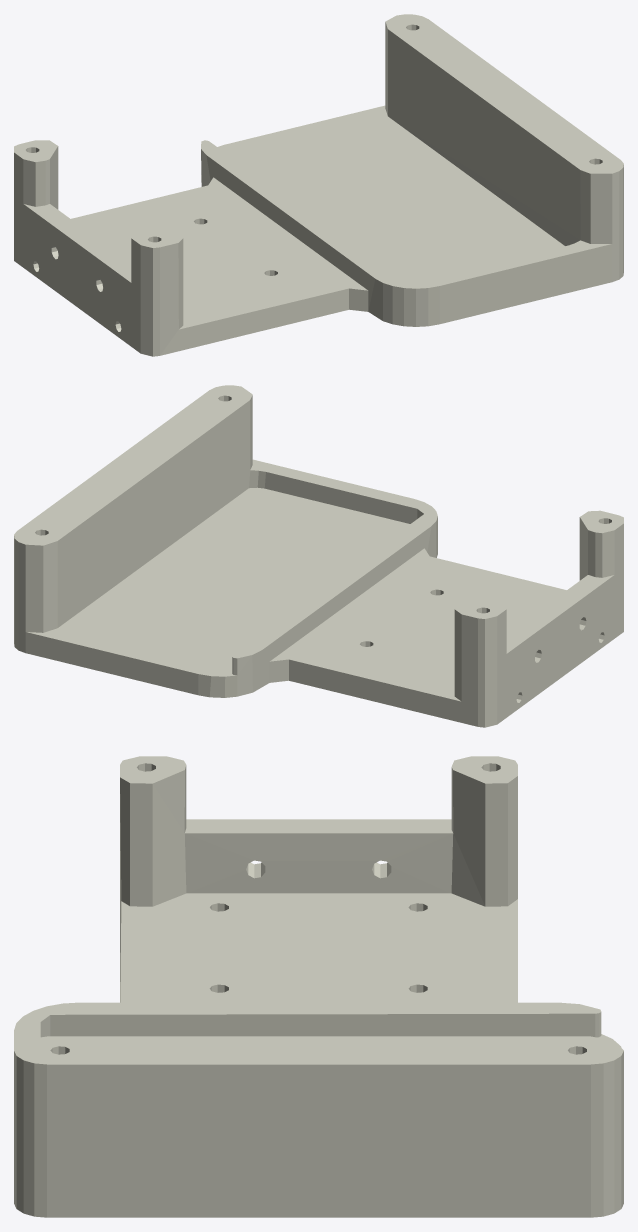
File: 1_Detail.fbx
3 views of the same model, one above another, from view 1: azimuth 30°, elevation 25°; view 2: azimuth 150°, elevation 25°; view 3: azimuth 270°, elevation 25° (orthographic). The views are drawn at different scales.
Parts seen in each view (by area): view 1: 1_Detail; view 2: 1_Detail; view 3: 1_Detail.
Part boxes in pixels (x1,y1,x2,y2): 1_Detail: (14, 14, 623, 356); 1_Detail: (14, 385, 623, 727); 1_Detail: (14, 756, 623, 1217).
Size of the model in its own units: 11000 by 2550 by 9200.
1 material, 1 textured.
